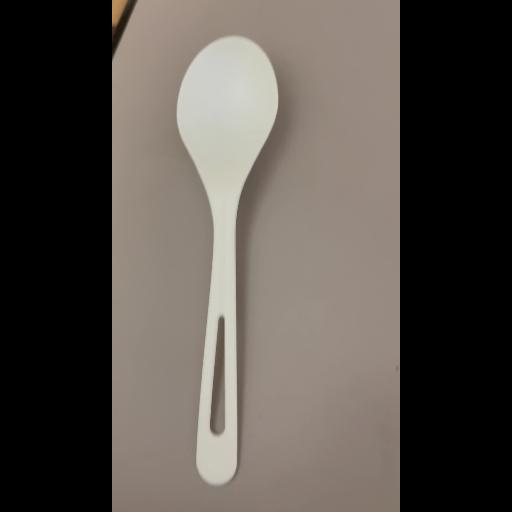utensil: (166, 30, 286, 494)
